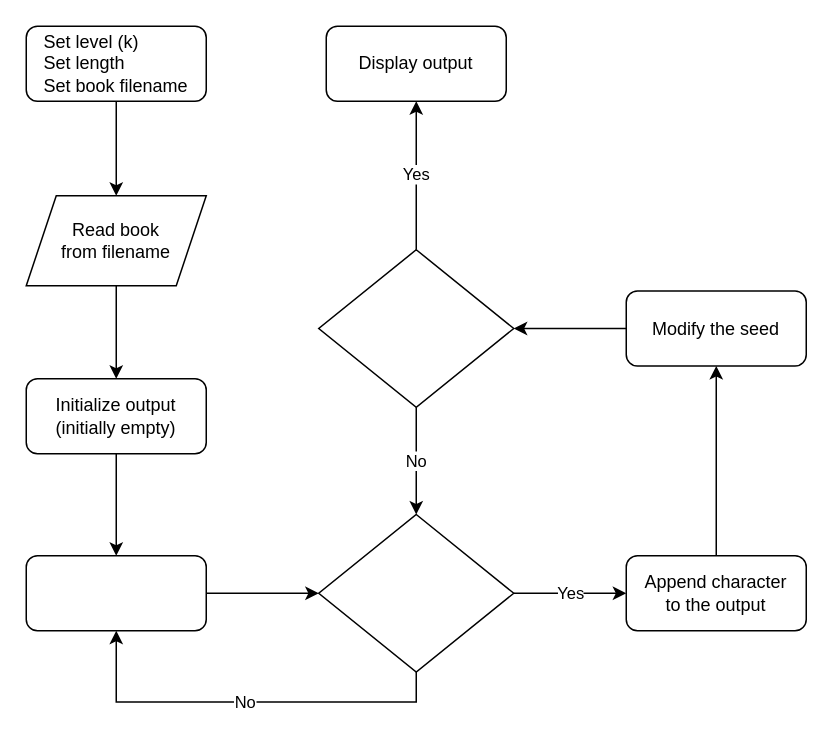
The diagram is 833 pixels wide and 741 high, and some of its shapes have lost their labels. Here are the shapes that lost their labels. From the top down, the centre of each, then its label:
At point 415,327: "Is there enough output?".
At point 115,592: "Get a random seed of length k".
At point 415,592: "Is there a valid next character?".
